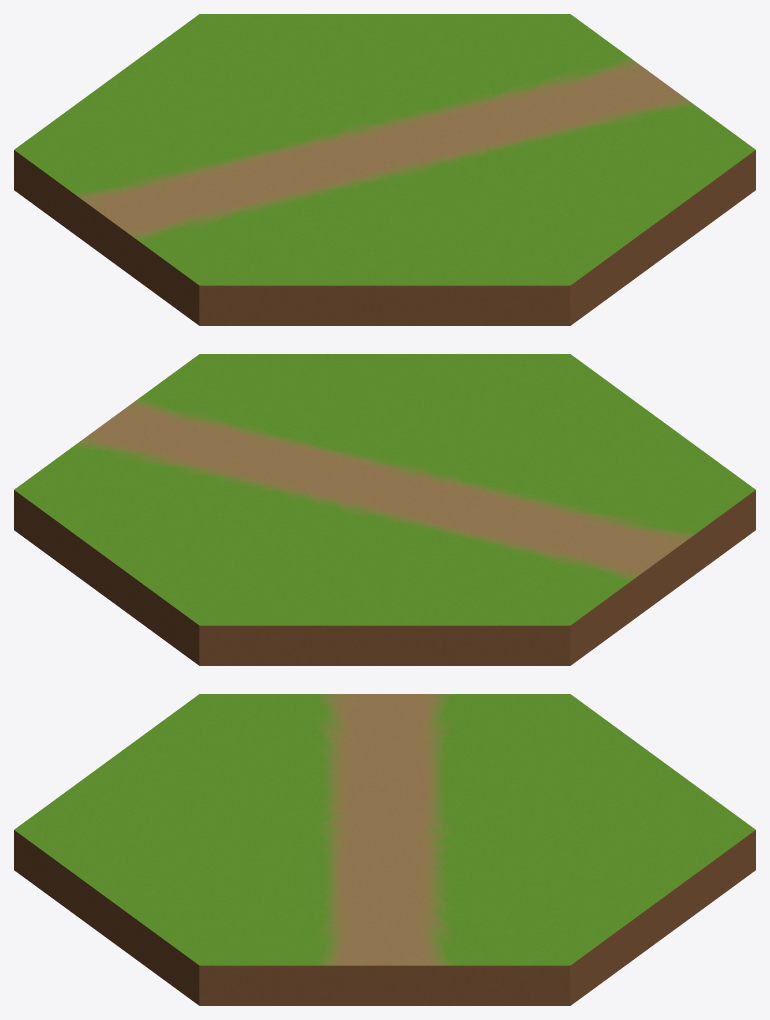
The model's file is SM_CaminoPuente_Recto_LOD0.fbx.
The picture shows the model from 3 angles, top to bottom: view 1: azimuth 30°, elevation 25°; view 2: azimuth 150°, elevation 25°; view 3: azimuth 270°, elevation 25°; orthographic projection.
Visible parts, largest first — view 1: SM_CaminoPuente_Recto_LOD0; view 2: SM_CaminoPuente_Recto_LOD0; view 3: SM_CaminoPuente_Recto_LOD0.
Part boxes in pixels (bbox=[...]): SM_CaminoPuente_Recto_LOD0: bbox=[14, 14, 755, 325]; SM_CaminoPuente_Recto_LOD0: bbox=[14, 354, 755, 665]; SM_CaminoPuente_Recto_LOD0: bbox=[14, 694, 755, 1005].
Size of the model in its own units: 1.73 by 0.12 by 2.
Materials: 1 (1 with a texture image).
